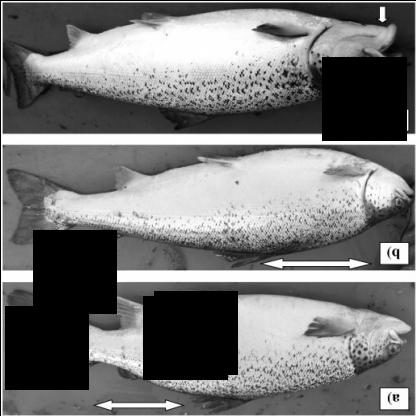fish: (3, 6, 408, 128), (8, 148, 412, 264), (8, 288, 410, 404)
